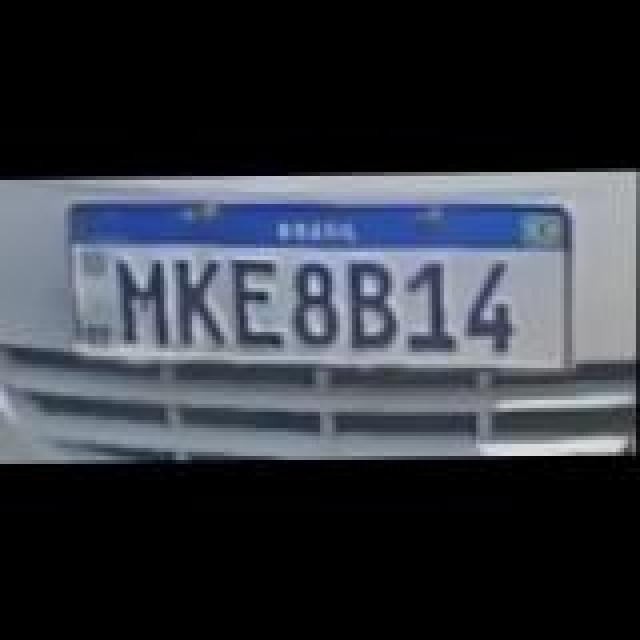1: (406, 260, 462, 352)
4: (464, 260, 516, 352)
8: (292, 256, 344, 344)
B: (348, 258, 400, 350)
E: (230, 256, 286, 344)
K: (174, 258, 230, 346)
M: (116, 254, 176, 342)
